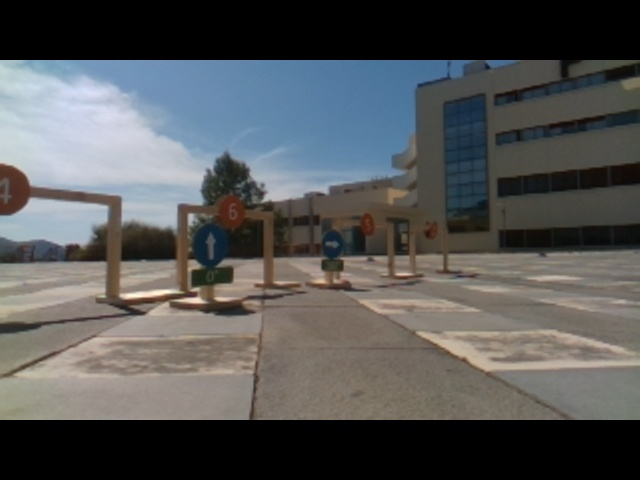0_degree: (188, 266, 236, 286)
arrow_right: (319, 227, 344, 256)
arrow_up: (190, 223, 230, 265)
checkpoint_foot: (93, 291, 150, 307), (148, 282, 190, 298), (254, 277, 304, 288)
checkpoint_side: (103, 191, 126, 298), (174, 200, 194, 289), (258, 206, 279, 284), (385, 219, 397, 274)
checkpoint_signal: (1, 180, 126, 213), (330, 218, 396, 232)
five: (359, 213, 375, 236)
four: (1, 161, 29, 218)
six: (214, 194, 249, 230)
